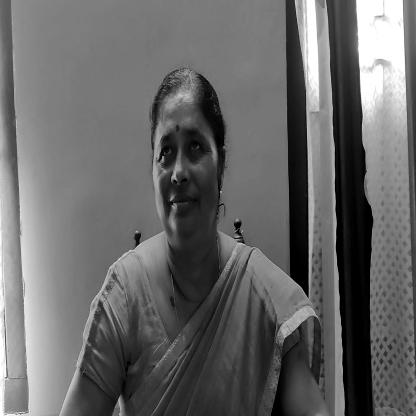Normal: (147, 70, 224, 244)
